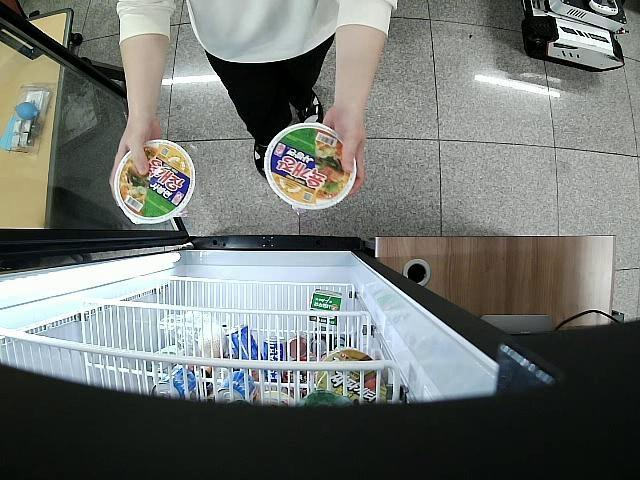09_yukGaeJang: (265, 123, 356, 208), (116, 141, 195, 224)
